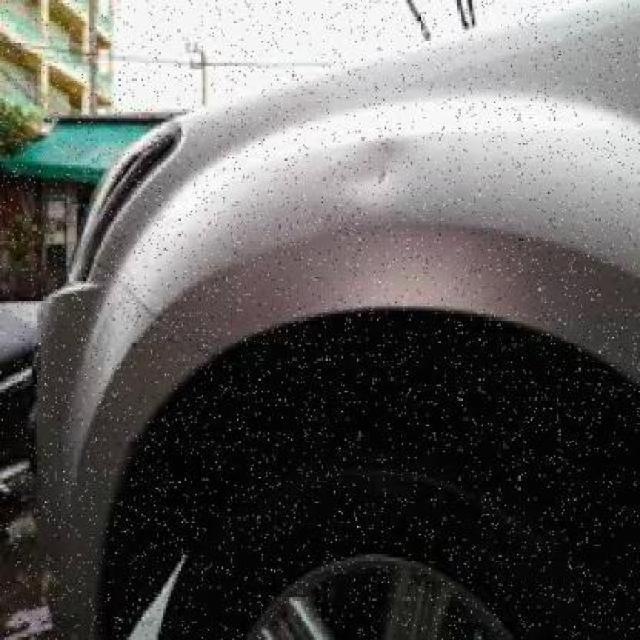fender-dent: (107, 119, 639, 482)
